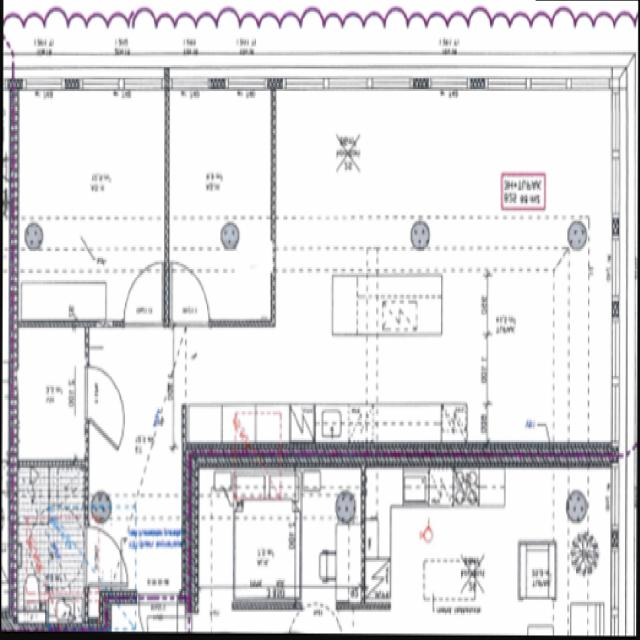door: (84, 528, 127, 584), (126, 264, 162, 328), (173, 266, 210, 328), (84, 368, 123, 419)
